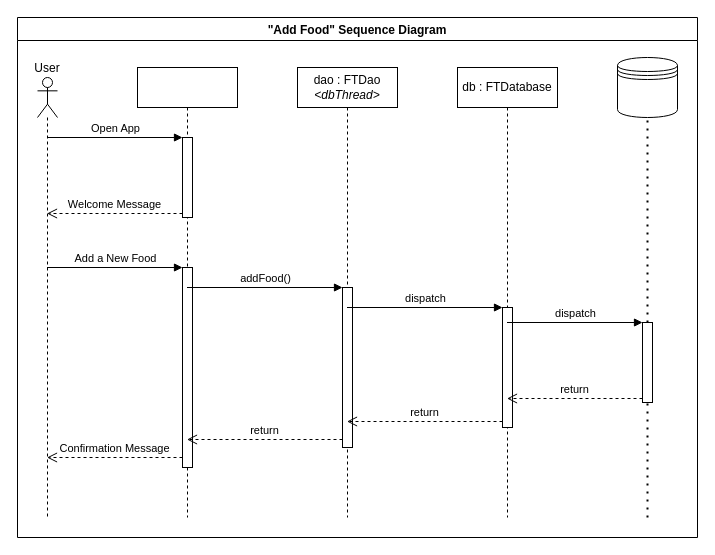
This 715x555 diagram has some shape labels left out. The shapes that lost their labels are listed below. From the top down, each one's centre as x and y in pixels, then its label:
point 647,87: SQLite Database
point 187,292: Device UI
